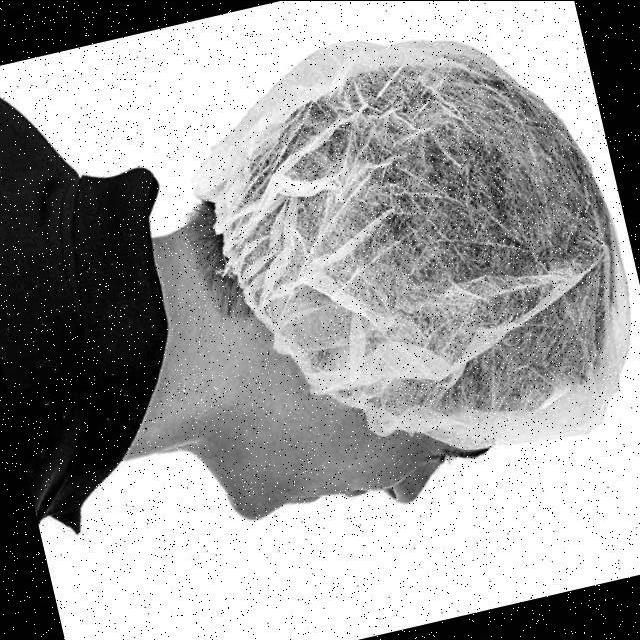gloves: (216, 0, 628, 421)
no_hairnet: (218, 434, 434, 508)
